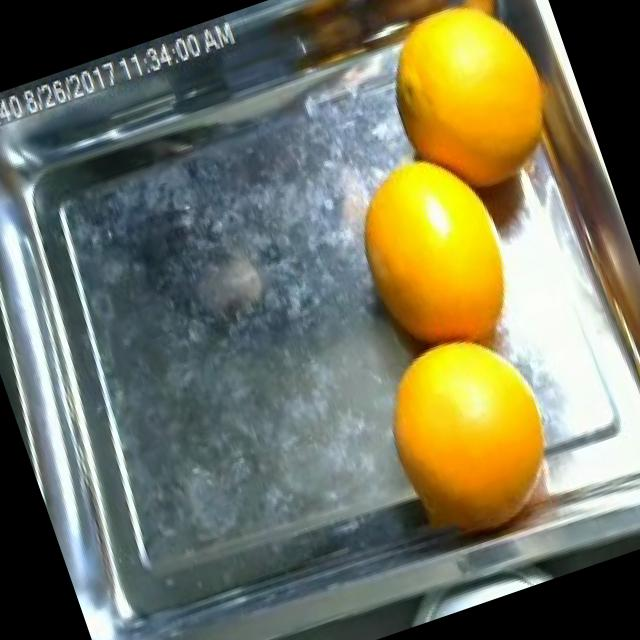Fruit: (317, 118, 536, 378), (353, 0, 583, 226)
